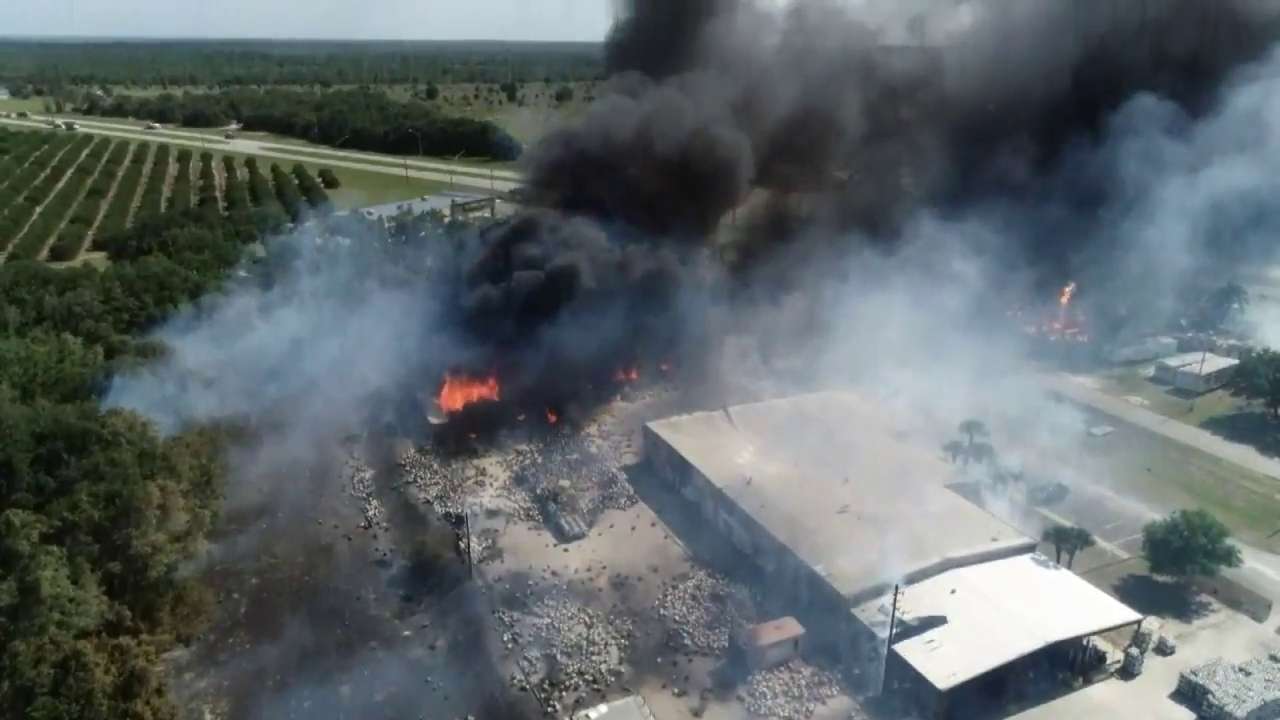forest_fire: (1024, 282, 1088, 340), (434, 373, 499, 413), (1008, 307, 1022, 317)
